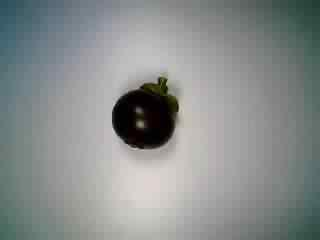mangosteen: (107, 73, 187, 149)
